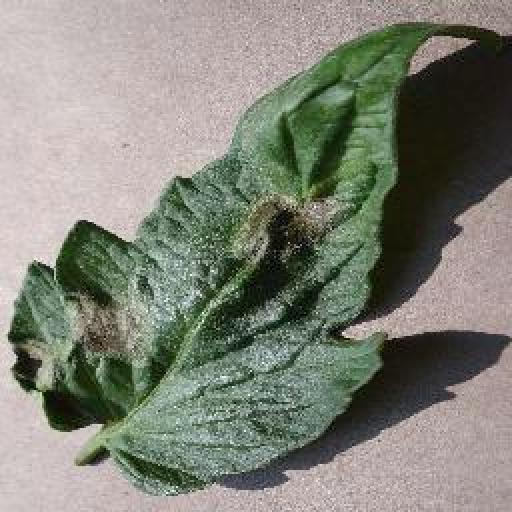disease_tomato: (8, 18, 438, 500)
